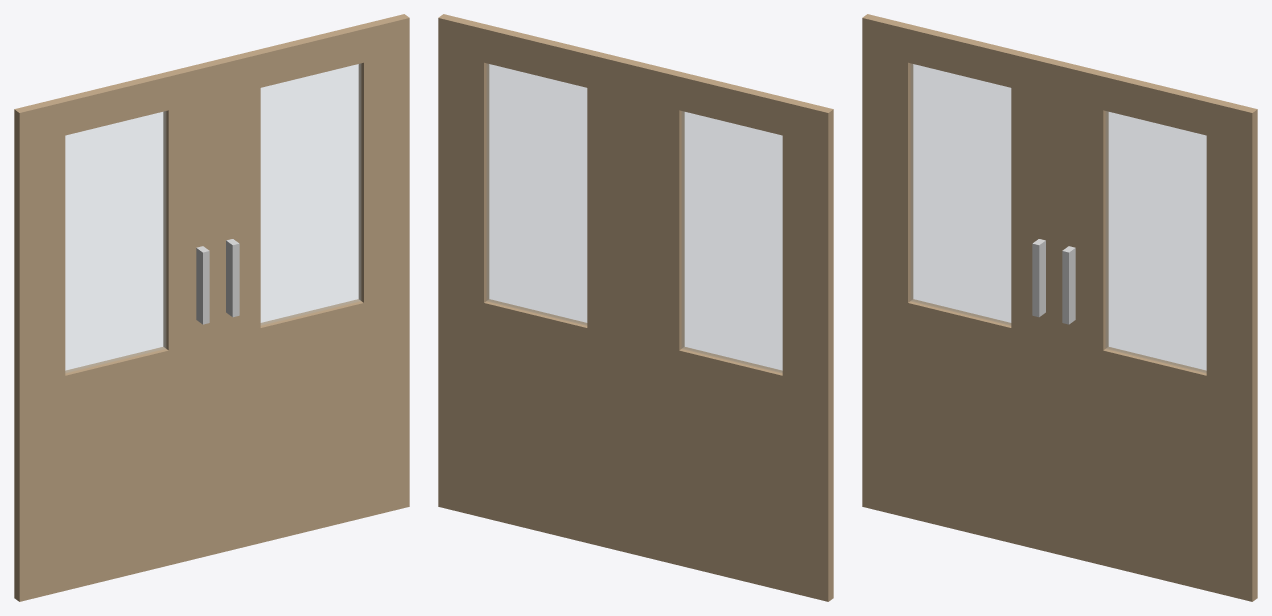
Rendered from SM_Build_Door_Double.fbx.
3 views of the same model, side by side, from view 1: azimuth 30°, elevation 25°; view 2: azimuth 150°, elevation 25°; view 3: azimuth 330°, elevation 25° (orthographic).
Visible parts, largest first — view 1: SM_Build_Door_Double_L, SM_Build_Door_Double_R; view 2: SM_Build_Door_Double_L, SM_Build_Door_Double_R; view 3: SM_Build_Door_Double_R, SM_Build_Door_Double_L.
Part boxes in pixels (x1,y1,x2,y2): SM_Build_Door_Double_L: (14,61,214,601); SM_Build_Door_Double_R: (209,14,409,554); SM_Build_Door_Double_L: (633,61,833,601); SM_Build_Door_Double_R: (438,14,638,554); SM_Build_Door_Double_R: (1057,61,1257,601); SM_Build_Door_Double_L: (862,14,1062,554).
Bounding box in the file's own units: 1.7 × 2.03 × 0.09.
